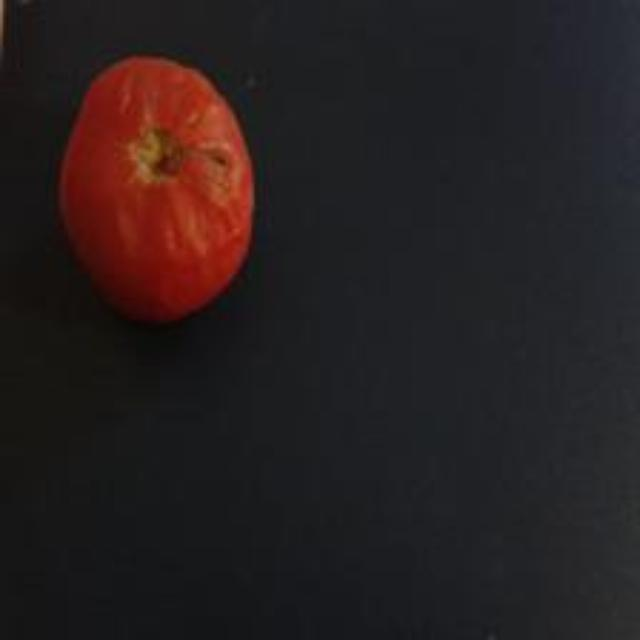defect: (59, 50, 261, 331)
